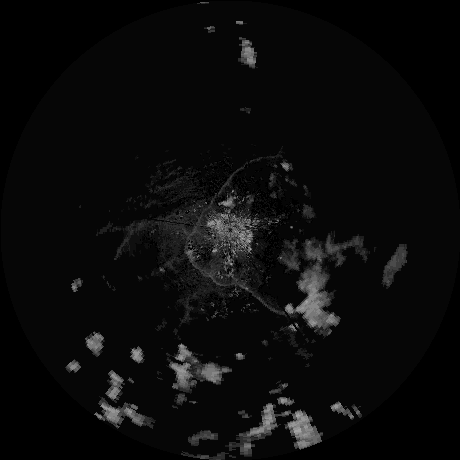frontgust: (186, 153, 276, 243), (184, 246, 287, 316)
